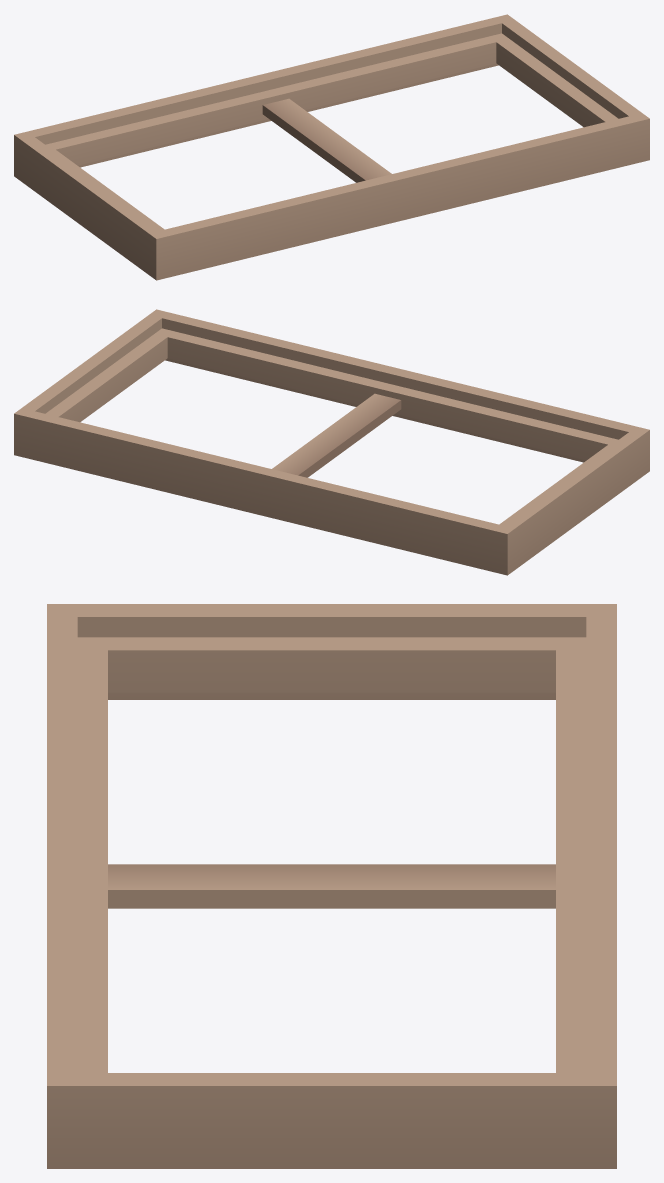
File: roof-window-long-single.glb
3 views of the same model, one above another, from view 1: azimuth 30°, elevation 25°; view 2: azimuth 150°, elevation 25°; view 3: azimuth 270°, elevation 25° (orthographic). The views are drawn at different scales.
Visible parts, largest first — view 1: roof-window-long-single; view 2: roof-window-long-single; view 3: roof-window-long-single.
Part boxes in pixels (<box>): roof-window-long-single: <box>14,14,649,280</box>; roof-window-long-single: <box>14,309,649,575</box>; roof-window-long-single: <box>47,604,616,1168</box>.
Bounding box in the file's own units: 1.87 × 0.15 × 0.9333.
